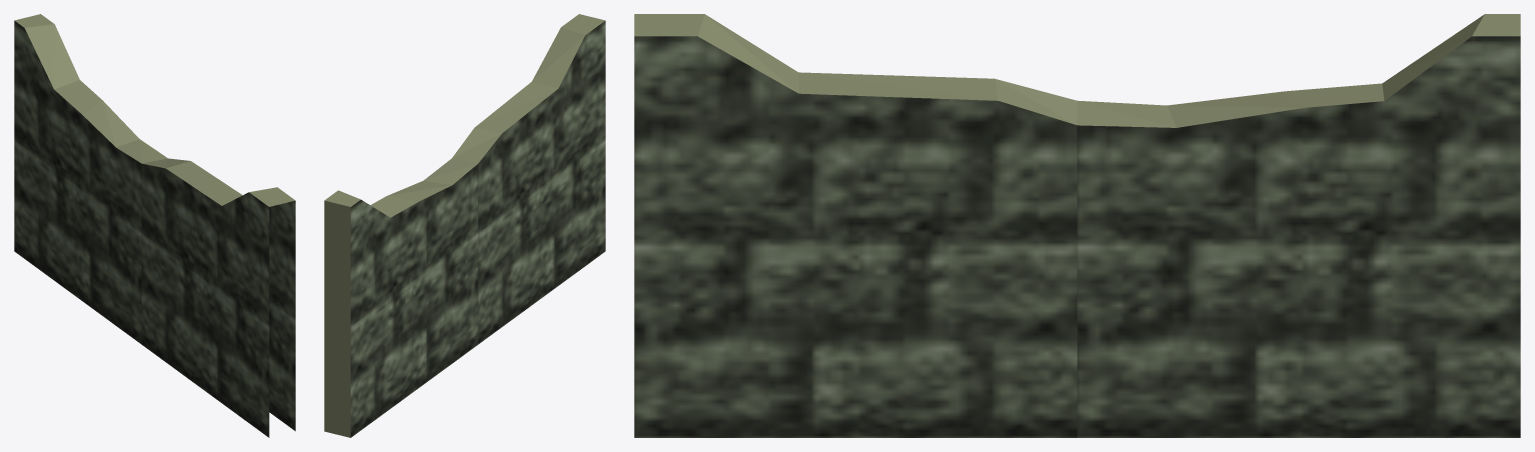
Rendered from ruins_grid_32_2.glb.
3 renders of one model, left to right at view 1: azimuth 30°, elevation 25°; view 2: azimuth 150°, elevation 25°; view 3: azimuth 270°, elevation 25°, orthographic. The views are drawn at different scales.
Visible parts, largest first — view 1: ruins_grid_32_2; view 2: ruins_grid_32_2; view 3: ruins_grid_32_2.
Boxes of the visible parts, bbox=[...] form: ruins_grid_32_2: bbox=[14, 14, 295, 437]; ruins_grid_32_2: bbox=[324, 14, 605, 437]; ruins_grid_32_2: bbox=[634, 14, 1520, 437].
Size of the model in its own units: 0.24 by 2 by 4.
Materials: 2 (1 with a texture image).
